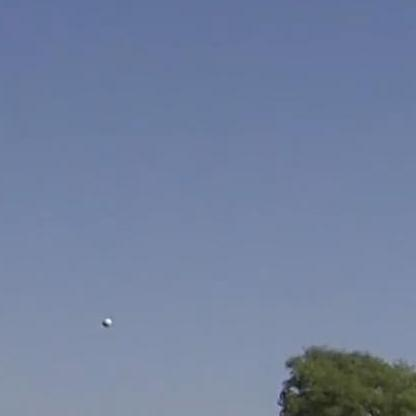golfball: (100, 315, 110, 326)
